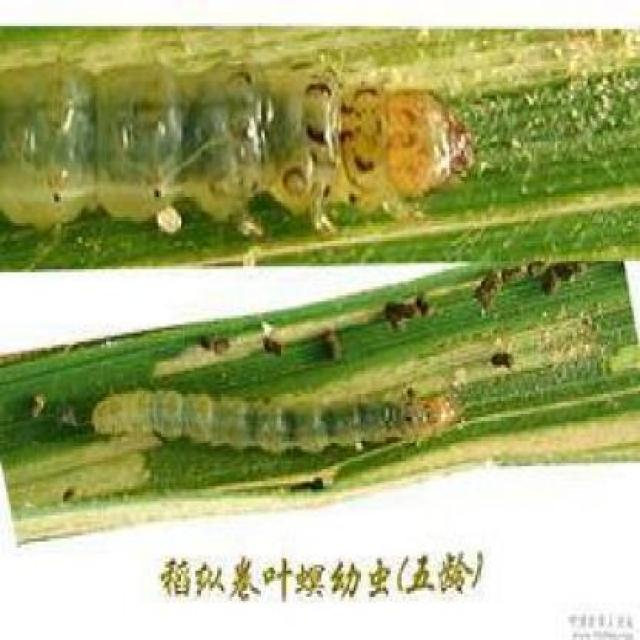leaf-folder: (0, 28, 483, 241), (85, 359, 470, 470)
